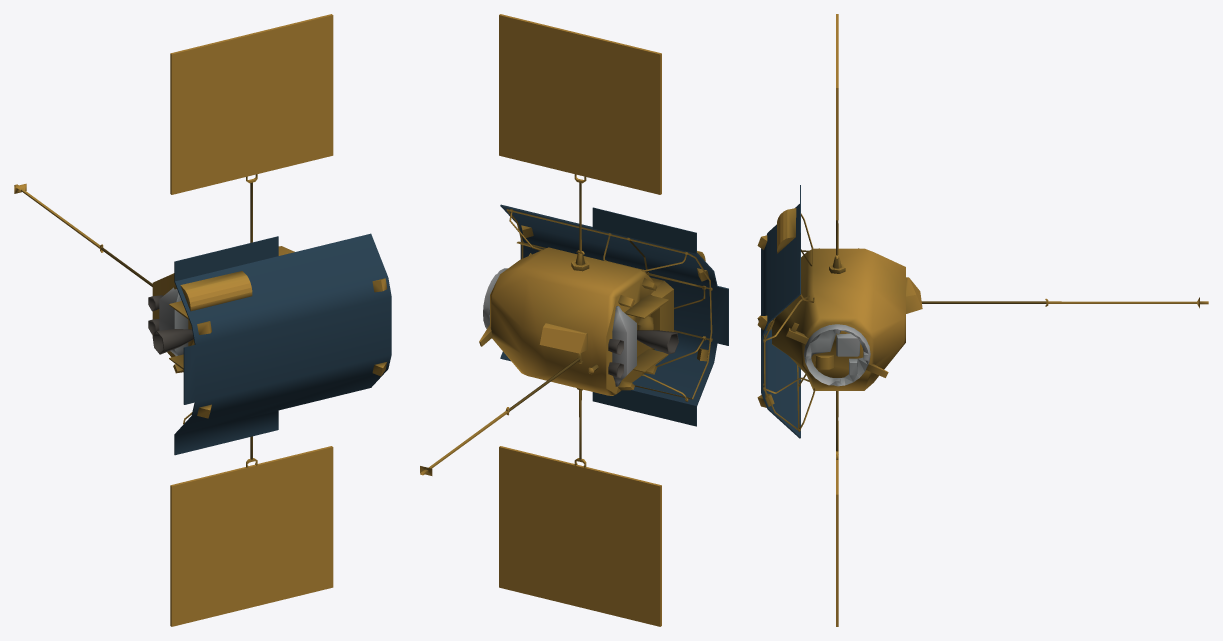
Rendered from space-satellites-satellite_v3.fbx.
The picture shows the model from 3 angles, left to right: view 1: azimuth 30°, elevation 25°; view 2: azimuth 150°, elevation 25°; view 3: azimuth 270°, elevation 25°; orthographic projection. The views are drawn at different scales.
Visible parts, largest first — view 1: Satellite_v3; view 2: Satellite_v3; view 3: Satellite_v3.
Part boxes in pixels (x1,y1,x2,y2): Satellite_v3: (14,14,391,626); Satellite_v3: (420,14,728,626); Satellite_v3: (757,14,1208,626).
Bounding box in the file's own units: 3.04 × 8 × 6.07.
